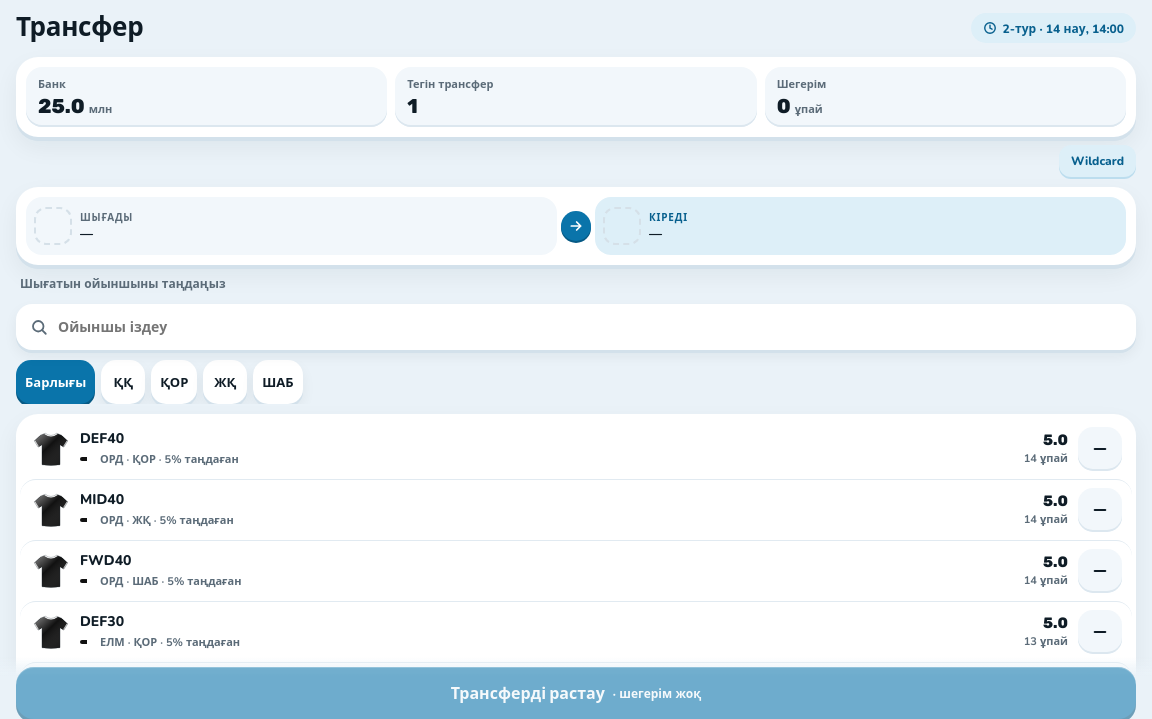
Scenario: Transfer › поиск «кайрат» находит игроков клуба «Қайрат»
Click the button named "Шығару: DEF40" at {"x": 1100, "y": 449}, box top-left (1078, 427), bottom-right (1122, 471)
(page scrolled)
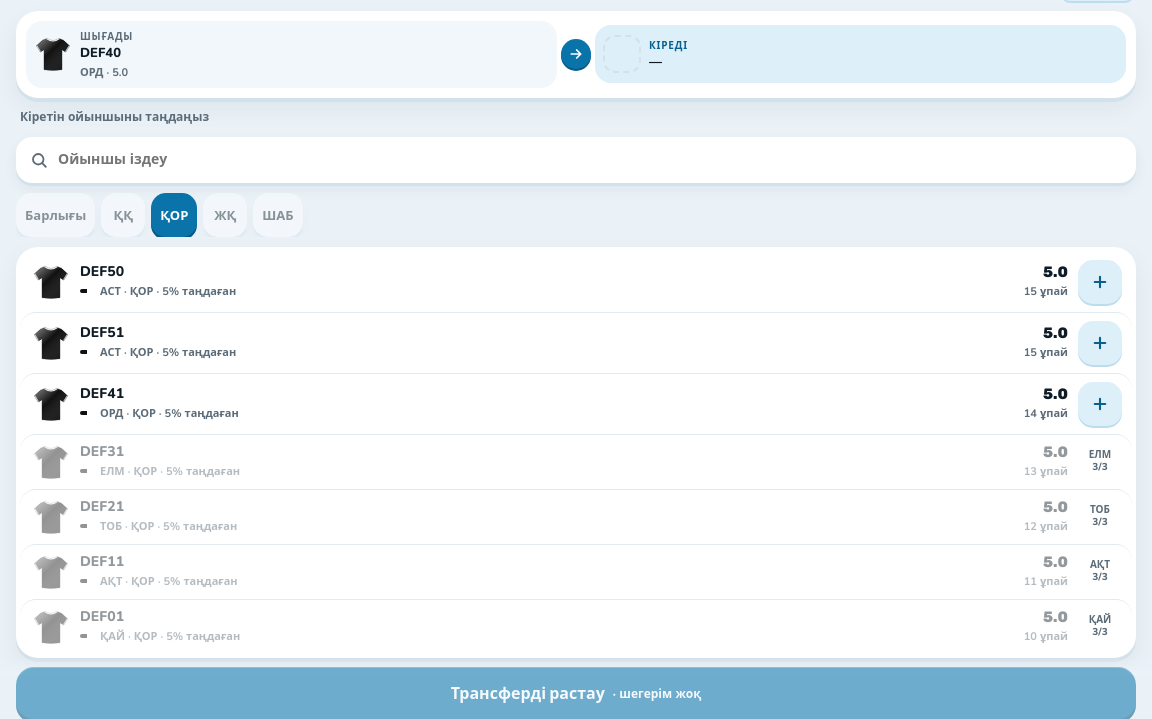
Type "кайрат" into the search field labelled "Ойыншы іздеу" at {"x": 576, "y": 160}, box top-left (16, 137), bottom-right (1136, 183)
(page scrolled)
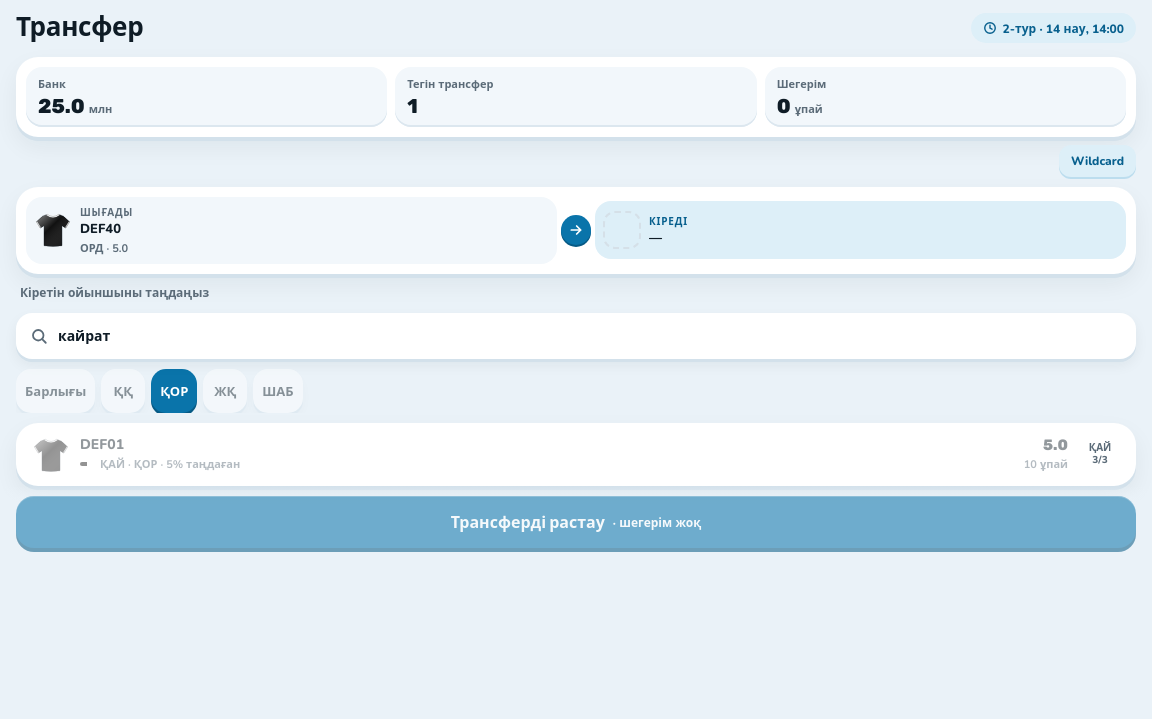
Now the text "DEF01" is shown, box top-left (80, 435), bottom-right (124, 454)
Now the text "DEF51" is gone
